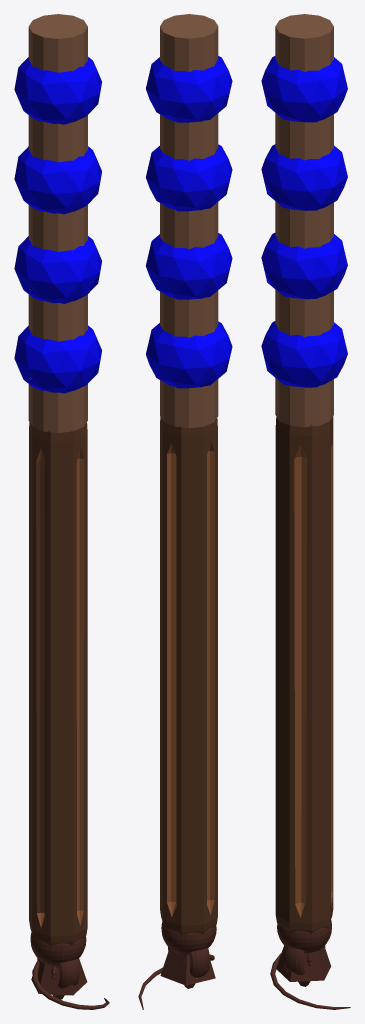
File: Wand 535.glb
3 views of the same model, side by side, from view 1: azimuth 30°, elevation 25°; view 2: azimuth 210°, elevation 25°; view 3: azimuth 330°, elevation 25° (orthographic).
Visible parts, largest first — view 1: GeneratedWand, Pommel_4, Pommel_9, Pommel_10, Pommel_2; view 2: GeneratedWand, Pommel_4, Pommel_9, Pommel_2; view 3: GeneratedWand, Pommel_9, Pommel_4, Pommel_2, Pommel_10.
Part boxes in pixels (x1,y1,x2,y2): GeneratedWand: (14,14,101,975); Pommel_4: (30,932,86,966); Pommel_9: (31,958,87,995); Pommel_10: (32,959,109,1009); Pommel_2: (37,958,79,988); GeneratedWand: (145,14,232,963); Pommel_4: (161,922,216,954); Pommel_9: (160,948,215,985); Pommel_2: (168,947,209,977); GeneratedWand: (261,14,347,962); Pommel_9: (276,945,331,981); Pommel_4: (277,920,331,953); Pommel_2: (283,945,325,974); Pommel_10: (270,953,350,1009).
Bounding box in the file's own units: 0.0462 × 0.5181 × 0.0428.
